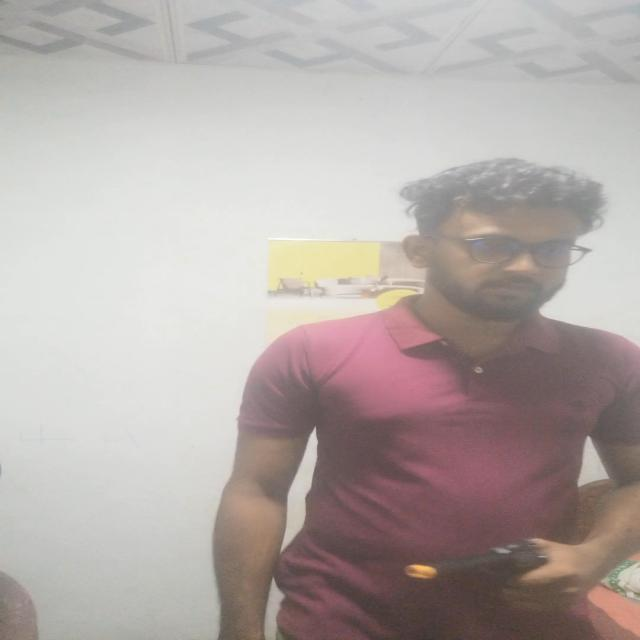Gun_Holder: (390, 533, 592, 607)
Person: (213, 156, 639, 640)
